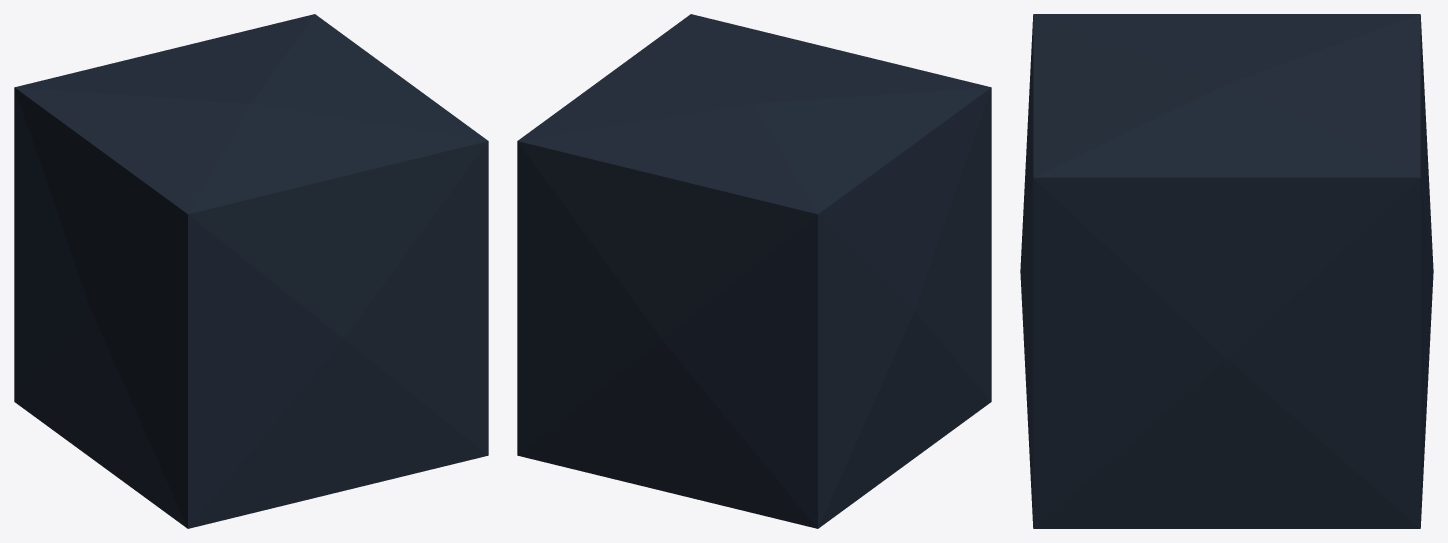
The model's file is wall solid.glb.
The picture shows the model from 3 angles, left to right: view 1: azimuth 30°, elevation 25°; view 2: azimuth 150°, elevation 25°; view 3: azimuth 270°, elevation 25°; orthographic projection. The views are drawn at different scales.
Parts seen in each view (by area): view 1: wall (solid); view 2: wall (solid); view 3: wall (solid).
Boxes of the visible parts, <box> form: wall (solid): <box>14,14,488,528</box>; wall (solid): <box>517,14,991,528</box>; wall (solid): <box>1020,14,1433,528</box>.
Bounding box in the file's own units: 1.07 × 1.03 × 1.07.
